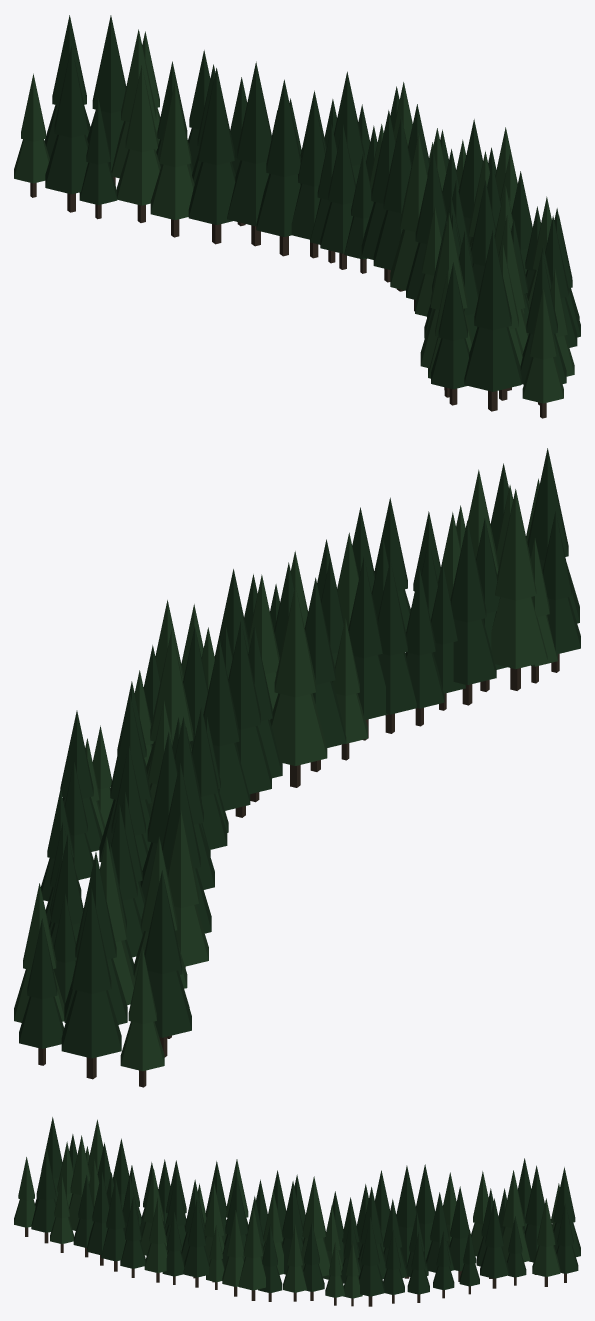
The model's file is forest_edge_05.glb.
3 views of the same model, one above another, from view 1: azimuth 30°, elevation 25°; view 2: azimuth 150°, elevation 25°; view 3: azimuth 270°, elevation 25° (orthographic). The views are drawn at different scales.
Visible parts, largest first — view 1: chunk_0_0; view 2: chunk_0_0; view 3: chunk_0_0.
Part boxes in pixels (left/top/right/bottom): chunk_0_0: left=14, top=15, right=580, bottom=418; chunk_0_0: left=14, top=448, right=580, bottom=1087; chunk_0_0: left=14, top=1117, right=580, bottom=1306.
Size of the model in its own units: 41.83 by 37.87 by 124.
